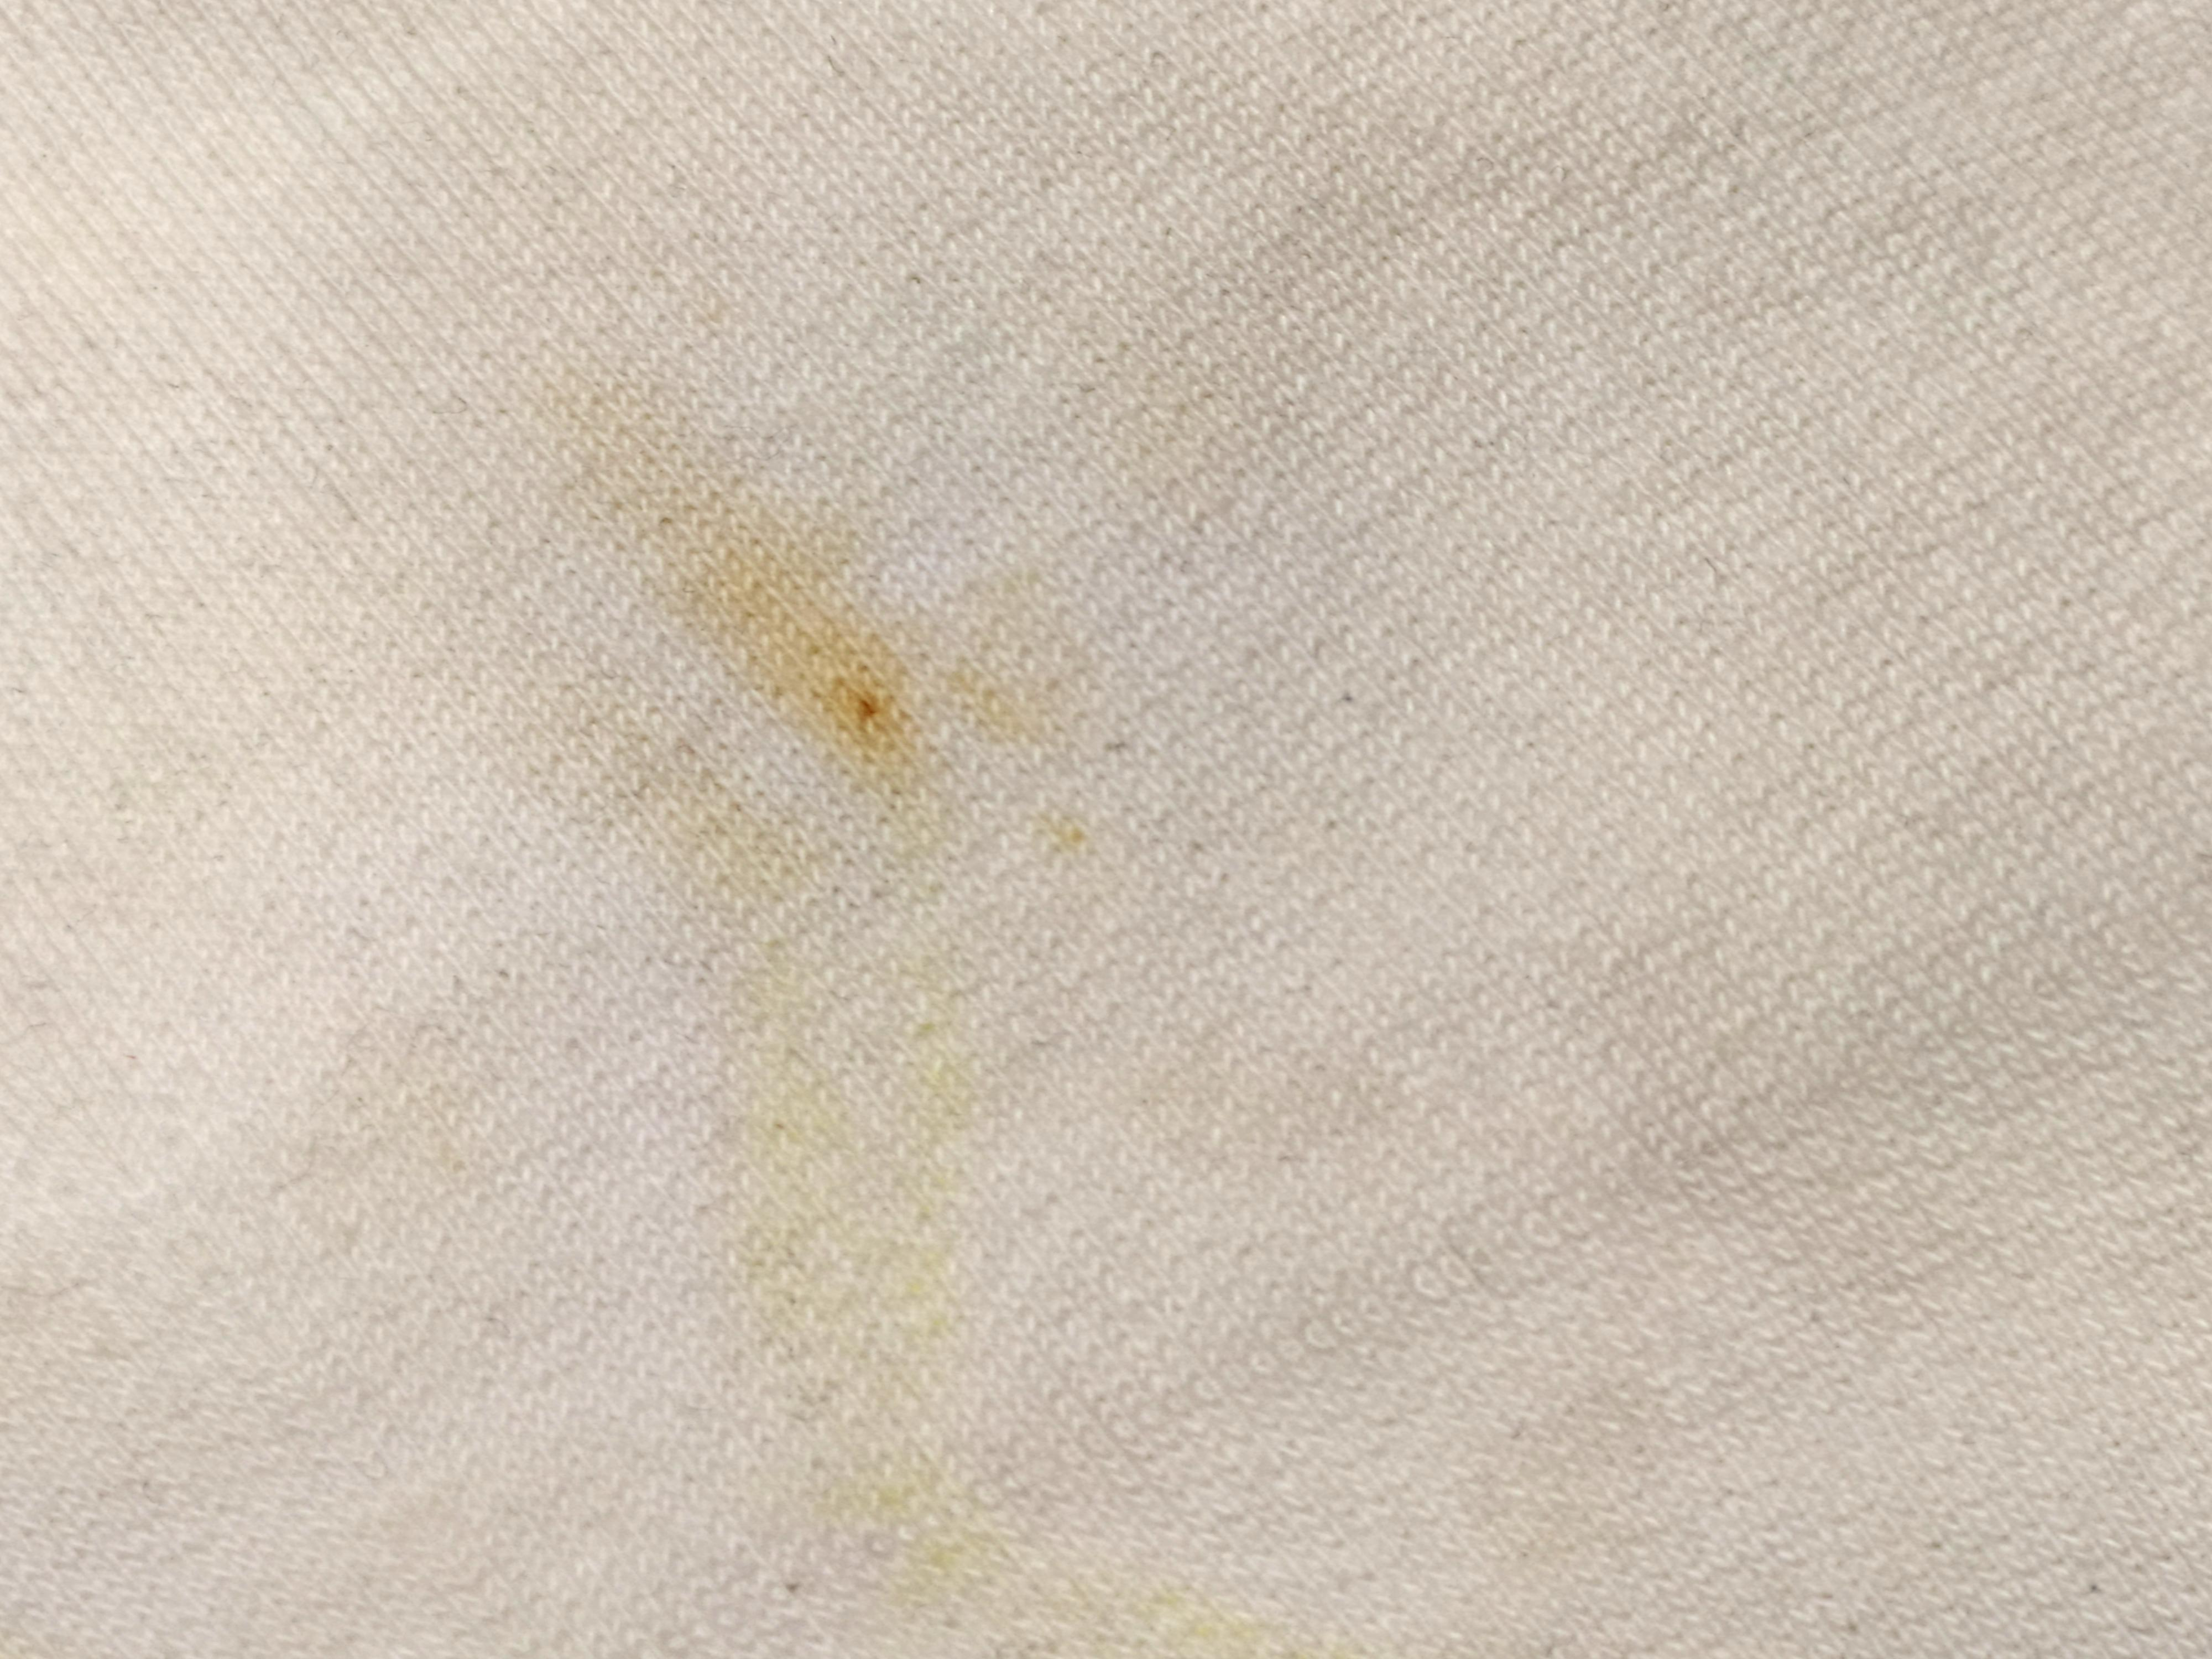stain: (629, 408, 939, 802)
